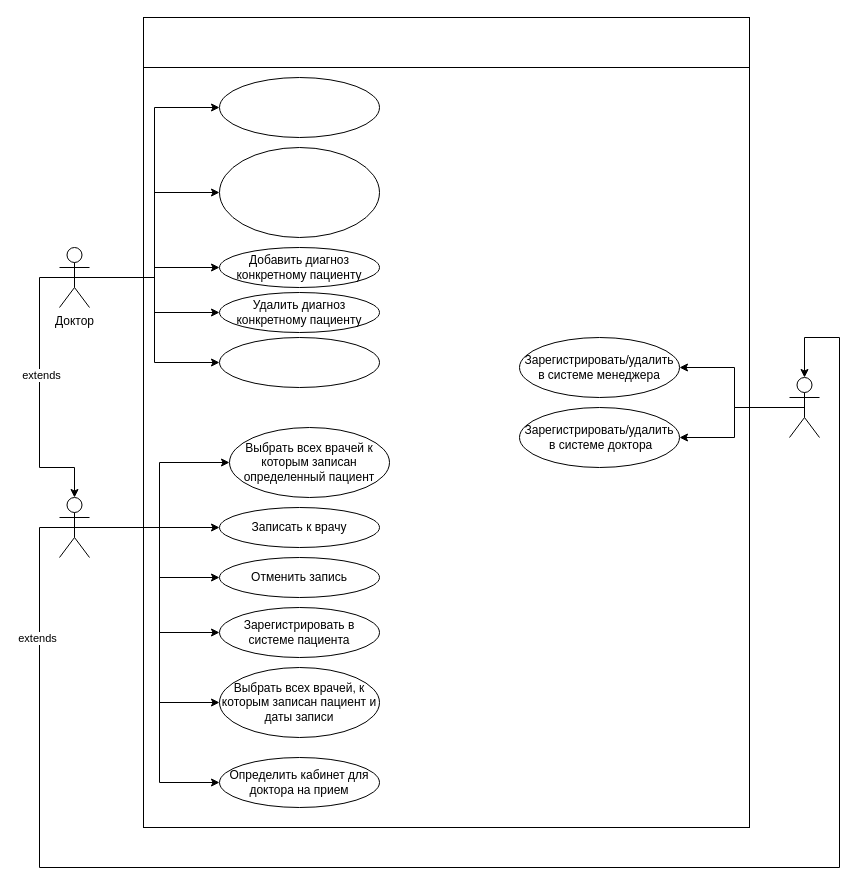
Some shapes in this 865 by 893 pixel diagram are drawn without their labels. Each missing label, with the centre of its shape:
Админ: (804,407)
Выбрать все диагнозы по пациенту: (299,107)
Выбрать всех пациентов записанных к определенному врачу на определенную дату: (299,192)
Записать на повторный прием: (299,362)
Менеджер: (74,527)
Поликлиника: (446,42)
